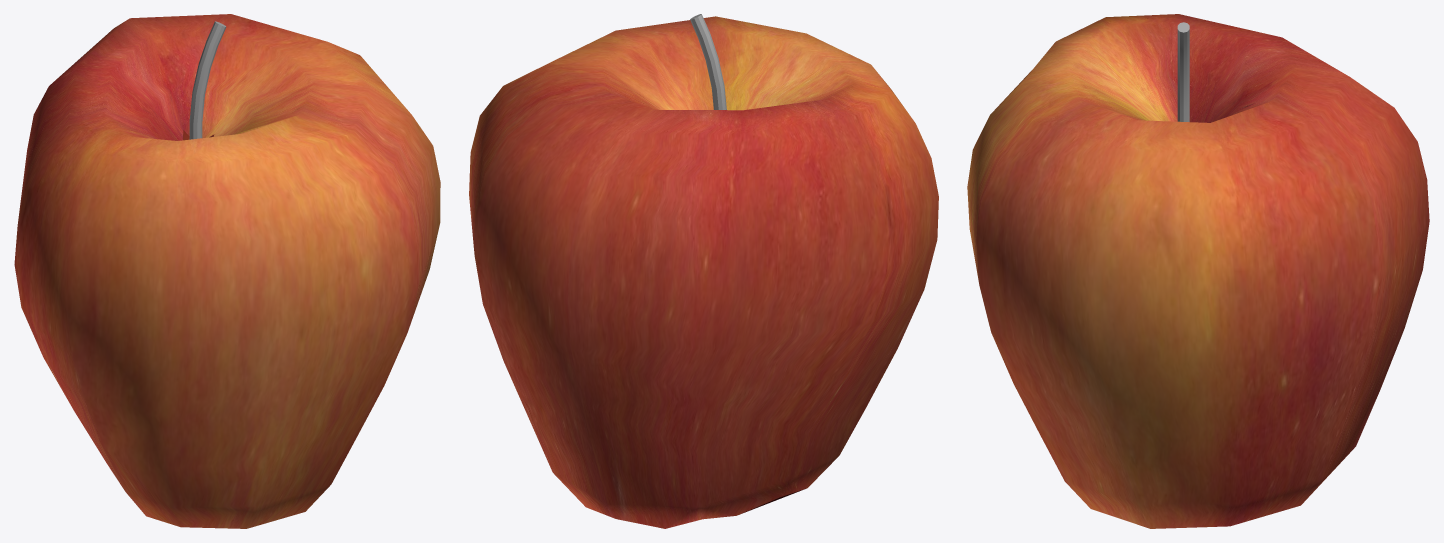
Rendered from AppleFBX.fbx.
The picture shows the model from 3 angles, left to right: view 1: azimuth 30°, elevation 25°; view 2: azimuth 150°, elevation 25°; view 3: azimuth 270°, elevation 25°; orthographic projection.
Parts seen in each view (by area): view 1: Apple, Cylinder; view 2: Apple, Cylinder; view 3: Apple, Cylinder.
Part boxes in pixels (<box>): Apple: <box>14,14,440,528</box>; Cylinder: <box>189,21,226,139</box>; Apple: <box>469,16,938,528</box>; Cylinder: <box>690,14,726,109</box>; Apple: <box>967,14,1429,528</box>; Cylinder: <box>1177,22,1189,121</box>.
Size of the model in its own units: 2.41 by 2.78 by 2.48.
Materials: 3 (2 with a texture image).
